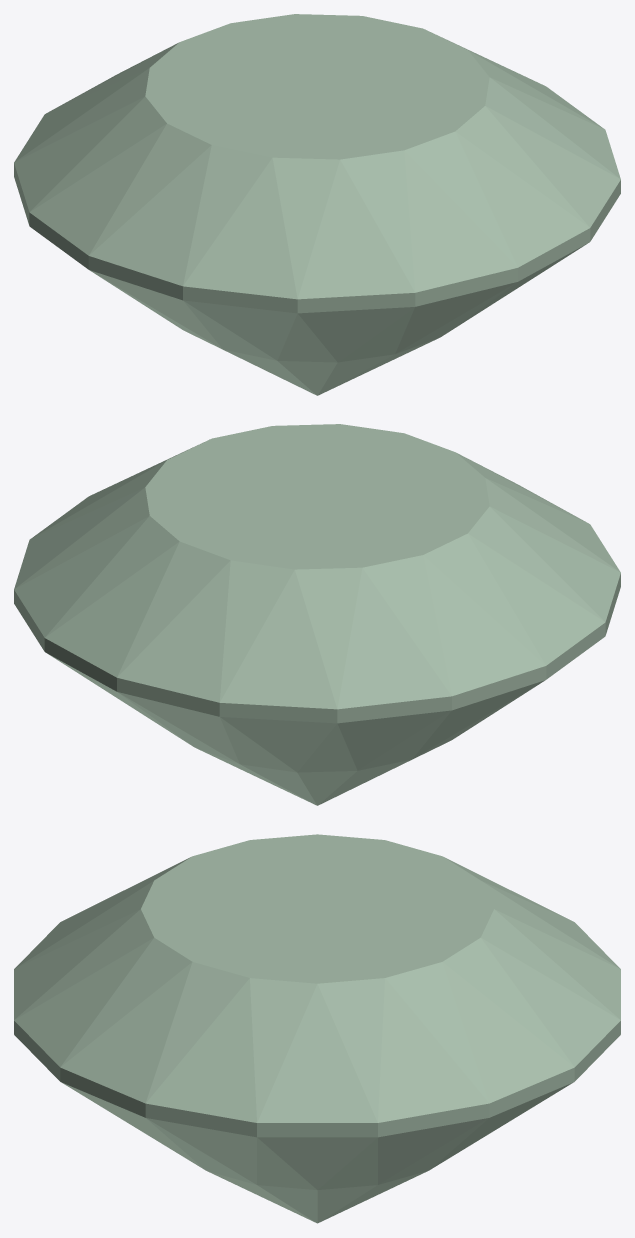
File: diopside.glb
The picture shows the model from 3 angles, top to bottom: view 1: azimuth 30°, elevation 25°; view 2: azimuth 150°, elevation 25°; view 3: azimuth 270°, elevation 25°; orthographic projection.
Visible parts, largest first — view 1: diopside; view 2: diopside; view 3: diopside.
Part boxes in pixels (<box>): diopside: <box>14,14,620,395</box>; diopside: <box>14,424,620,805</box>; diopside: <box>14,834,620,1223</box>.
Size of the model in its own units: 0.25 by 0.1429 by 0.25.
